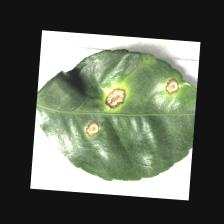canker: (80, 60, 187, 148)
